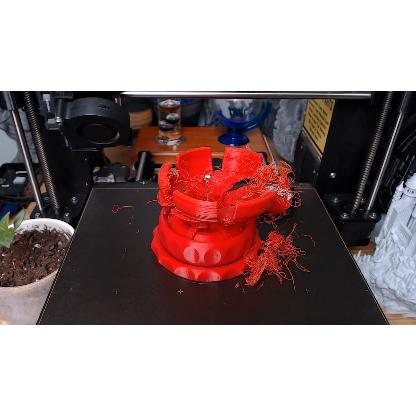fail: (240, 228, 321, 292), (249, 160, 304, 209)
